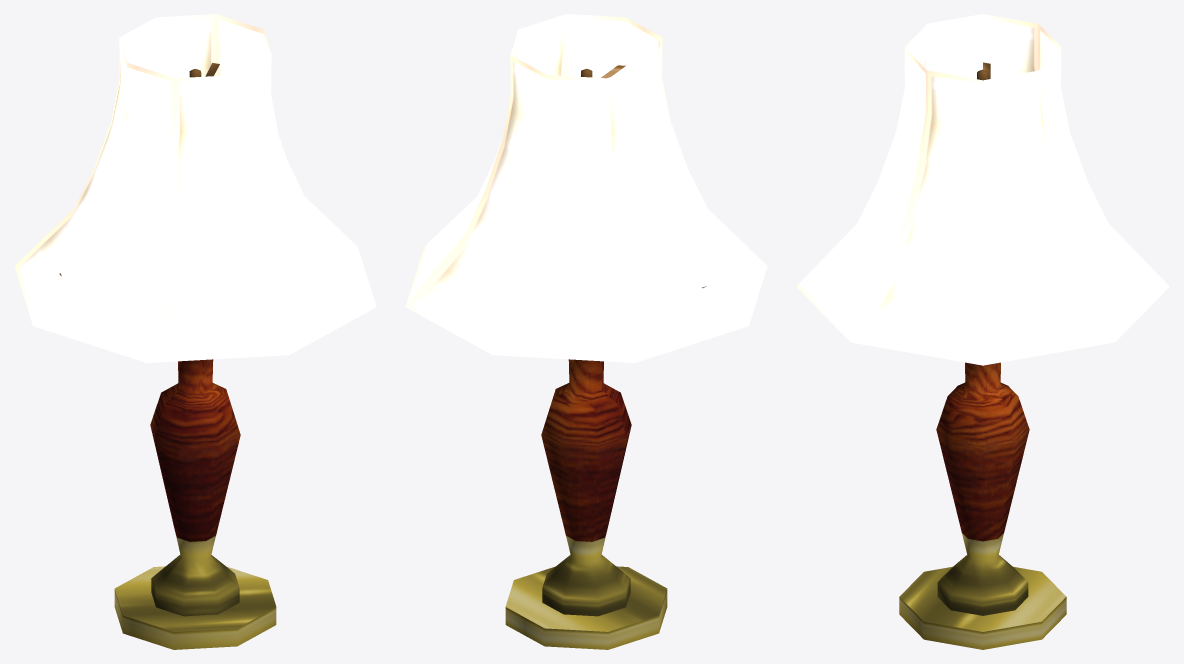
Rendered from lampC.fbx.
3 renders of one model, left to right at view 1: azimuth 30°, elevation 25°; view 2: azimuth 150°, elevation 25°; view 3: azimuth 270°, elevation 25°, orthographic.
Visible parts, largest first — view 1: lampC; view 2: lampC; view 3: lampC.
Part boxes in pixels (left/top/right/bottom): lampC: left=14, top=14, right=376, bottom=649; lampC: left=405, top=14, right=767, bottom=649; lampC: left=796, top=14, right=1169, bottom=649.
Bounding box in the file's own units: 60.49 × 101 × 60.49.
Materials: 1 (1 with a texture image).
